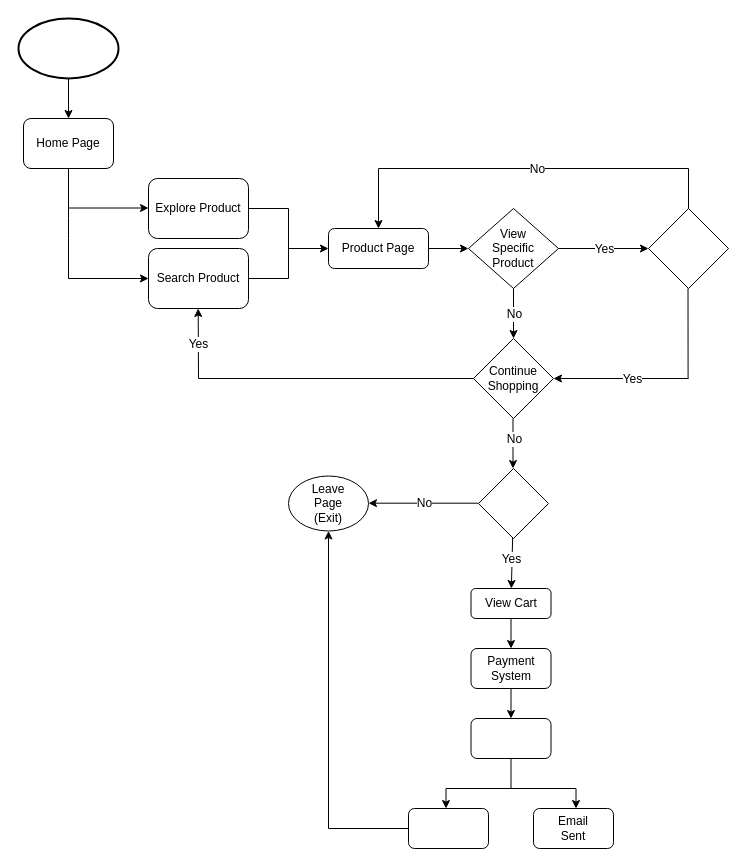
Image size: 746x866. Some labels were removed from this diagram. Each missing label, with the centre of its shape:
"Add Cart?" goes at (x=688, y=248).
"Check Out" goes at (x=513, y=503).
"Enter Website (Start)" goes at (x=68, y=48).
"Order Confirmation" goes at (x=448, y=828).
"Payment Information" goes at (x=510, y=738).
